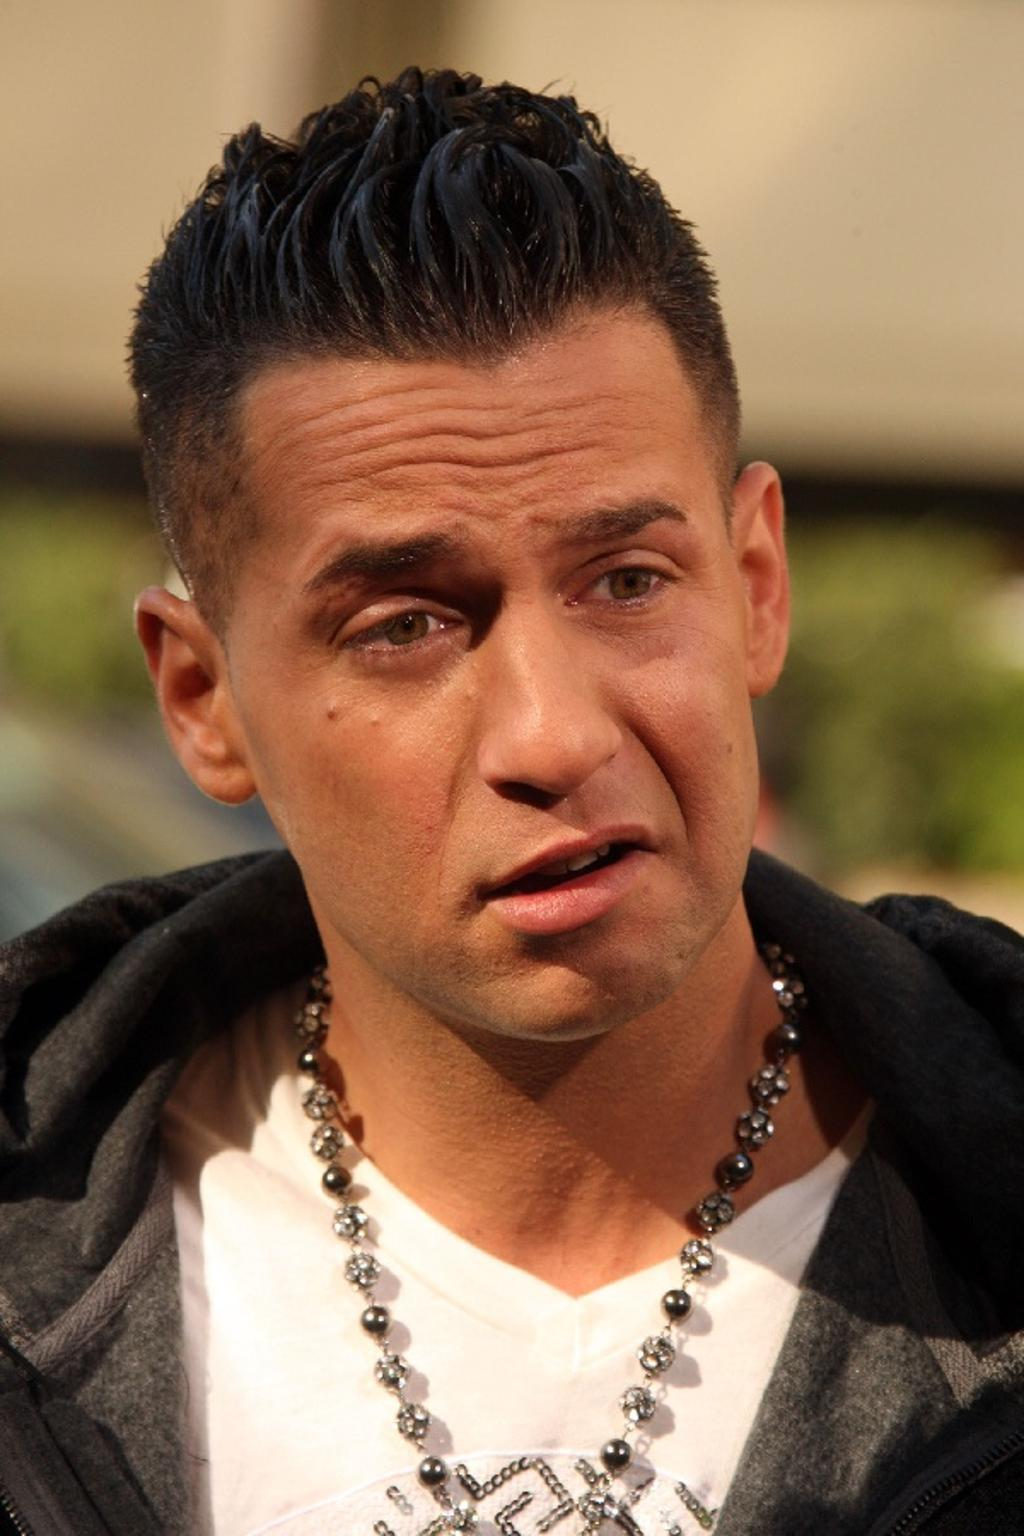face: (229, 313, 755, 1040)
